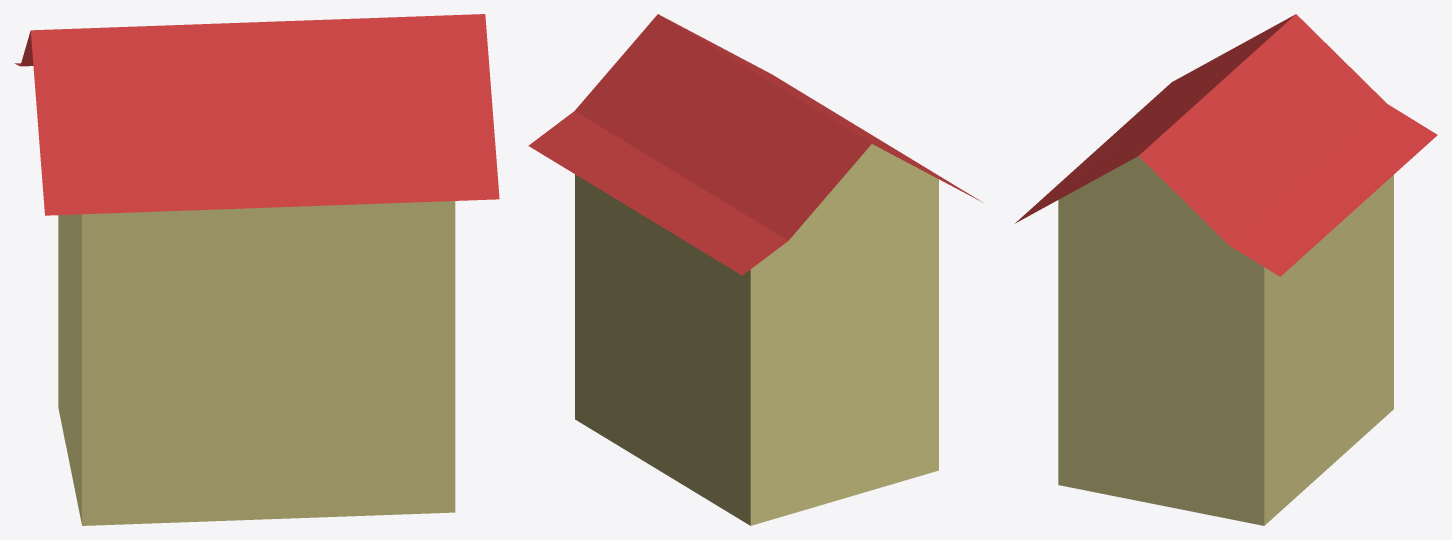
3 renders of one model, left to right at view 1: azimuth 30°, elevation 25°; view 2: azimuth 150°, elevation 25°; view 3: azimuth 270°, elevation 25°, orthographic. The views are drawn at different scales.
Bounding box in the file's own units: 10.42 × 9.59 × 8.99.
